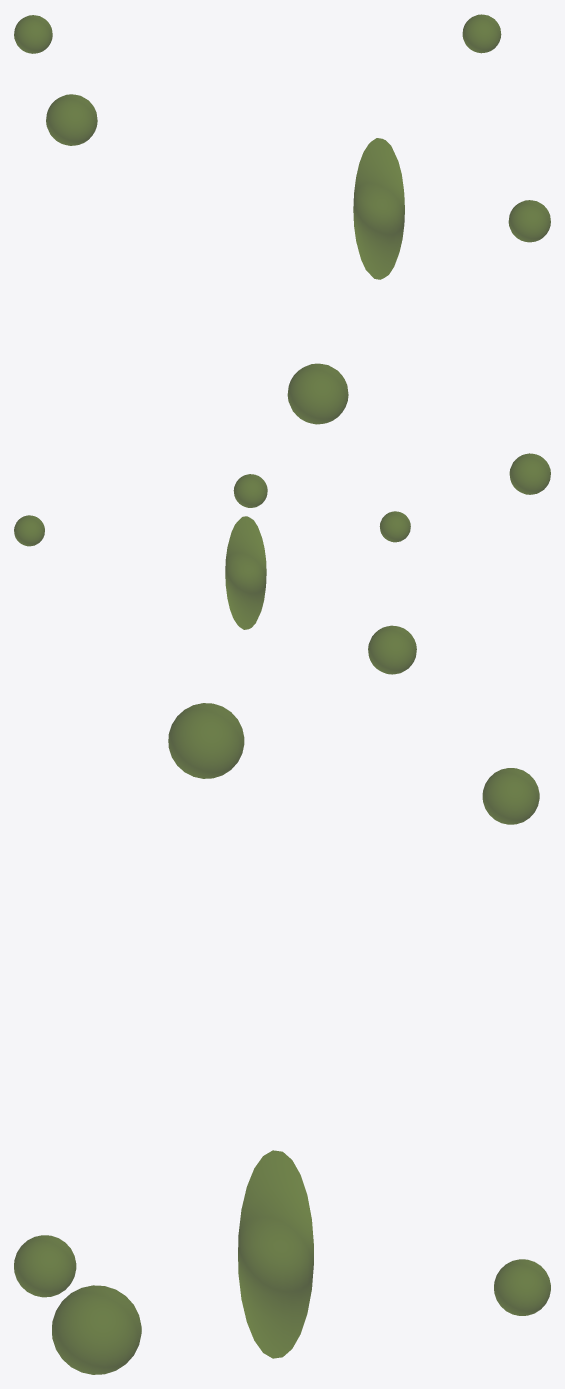
The model's file is project1.fbx.
3 renders of one model, top to bottom at view 1: azimuth 30°, elevation 25°; view 2: azimuth 150°, elevation 25°; view 3: azimuth 270°, elevation 25°, orthographic. The views are drawn at different scales.
Visible parts, largest first — view 1: lysasome_1_5, lysasome_1_6, lysasome_1_2, lysasome_1_1, lysasome_1_3, lysasome_1_4; view 2: lysasome_1_5, lysasome_1_6, lysasome_1_2, lysasome_1_1, lysasome_1_3, lysasome_1_4; view 3: lysasome_1_5, lysasome_1_6, lysasome_1_2, lysasome_1_1, lysasome_1_3, lysasome_1_4.
Part boxes in pixels (x1,y1,x2,y2): lysasome_1_5: [353, 138, 404, 279]; lysasome_1_6: [287, 363, 348, 424]; lysasome_1_2: [46, 94, 97, 145]; lysasome_1_1: [508, 200, 550, 242]; lysasome_1_3: [14, 15, 52, 53]; lysasome_1_4: [462, 14, 501, 53]; lysasome_1_5: [225, 516, 266, 629]; lysasome_1_6: [368, 625, 416, 674]; lysasome_1_2: [509, 453, 550, 494]; lysasome_1_1: [233, 474, 267, 507]; lysasome_1_3: [379, 511, 410, 542]; lysasome_1_4: [14, 515, 44, 546]; lysasome_1_5: [238, 1150, 313, 1358]; lysasome_1_6: [52, 1285, 141, 1374]; lysasome_1_2: [168, 703, 244, 778]; lysasome_1_1: [14, 1235, 76, 1297]; lysasome_1_3: [482, 768, 539, 824]; lysasome_1_4: [494, 1259, 550, 1315].
Bounding box in the file's own units: 11699 × 7005 × 6633.
